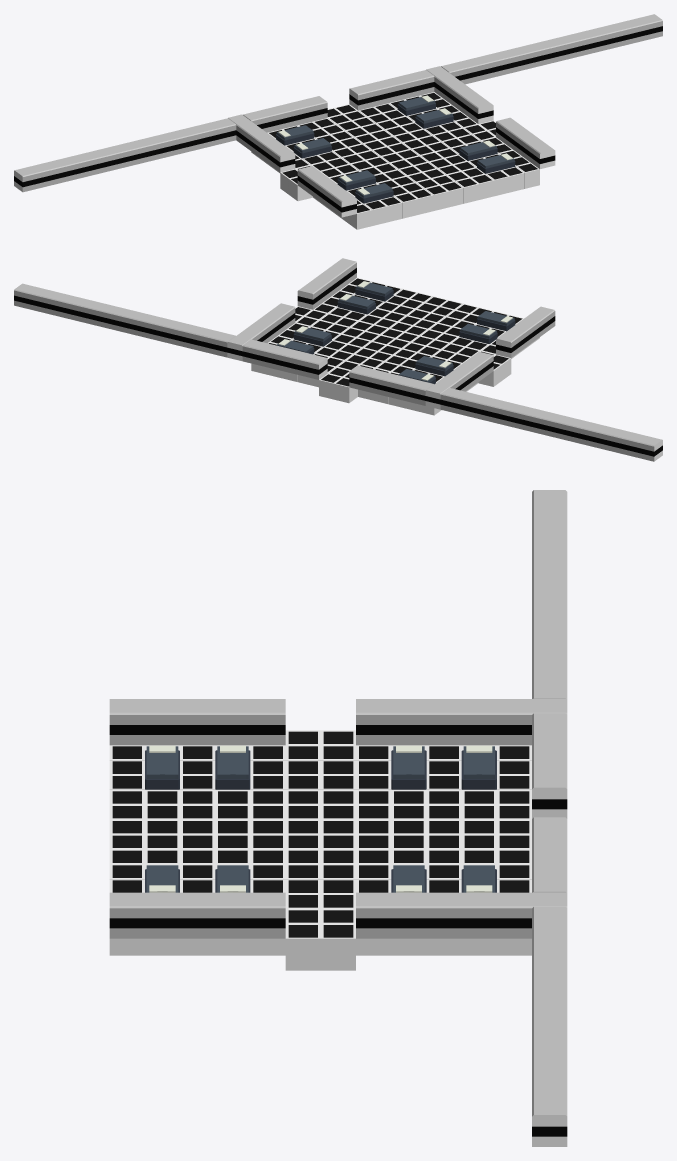
Rendered from bedroomLarge0.fbx.
The picture shows the model from 3 angles, top to bottom: view 1: azimuth 30°, elevation 25°; view 2: azimuth 150°, elevation 25°; view 3: azimuth 270°, elevation 25°; orthographic projection. The views are drawn at different scales.
Parts seen in each view (by area): view 1: Cube.010, Cube, Cube.004, Cube.007, Cube.006, Cube.001, Cube.005, Cube.009, Cube.181, Cube.200, Cube.168, Cube.192 (+48 smaller); view 2: Cube.009, Cube.007, Cube.006, Cube.001, Cube, Cube.004, Cube.168, Cube.202, Cube.217, Cube.179, Cube.194, Cube.013 (+40 smaller); view 3: Cube.176, Cube.179, Cube.202, Cube.205, Cube.011, Cube.175, Cube.177, Cube.181, Cube.183, Cube.184, Cube.185, Cube.190 (+20 smaller).
Part boxes in pixels (bbox=[...]): Cube.010: bbox=[397, 95, 435, 115]; Cube: bbox=[355, 183, 393, 203]; Cube.004: bbox=[293, 138, 331, 158]; Cube.007: bbox=[459, 140, 497, 160]; Cube.006: bbox=[477, 153, 515, 173]; Cube.001: bbox=[337, 170, 375, 190]; Cube.005: bbox=[276, 125, 314, 145]; Cube.009: bbox=[415, 108, 453, 128]; Cube.181: bbox=[271, 146, 295, 172]; Cube.200: bbox=[469, 98, 493, 123]; Cube.168: bbox=[349, 85, 373, 110]; Cube.192: bbox=[531, 143, 555, 168]; Cube.009: bbox=[293, 326, 331, 346]; Cube.007: bbox=[337, 294, 375, 314]; Cube.006: bbox=[355, 281, 393, 301]; Cube.001: bbox=[459, 323, 497, 343]; Cube: bbox=[477, 311, 515, 331]; Cube.004: bbox=[415, 356, 453, 376]; Cube.168: bbox=[303, 354, 327, 379]; Cube.202: bbox=[297, 284, 321, 309]; Cube.217: bbox=[639, 436, 662, 461]; Cube.179: bbox=[496, 332, 519, 357]; Cube.194: bbox=[334, 377, 357, 403]; Cube.013: bbox=[212, 332, 235, 357]; Cube.176: bbox=[391, 699, 426, 745]; Cube.179: bbox=[250, 699, 285, 745]; Cube.202: bbox=[250, 892, 285, 938]; Cube.205: bbox=[391, 892, 426, 938]; Cube.011: bbox=[285, 924, 320, 970]; Cube.175: bbox=[461, 699, 496, 745]; Cube.177: bbox=[426, 699, 461, 745]; Cube.181: bbox=[356, 699, 391, 745]; Cube.183: bbox=[109, 699, 144, 745]; Cube.184: bbox=[180, 699, 215, 745]; Cube.185: bbox=[215, 699, 250, 745]; Cube.190: bbox=[215, 892, 250, 938].
Size of the model in its own units: 8400 by 400 by 2600.
